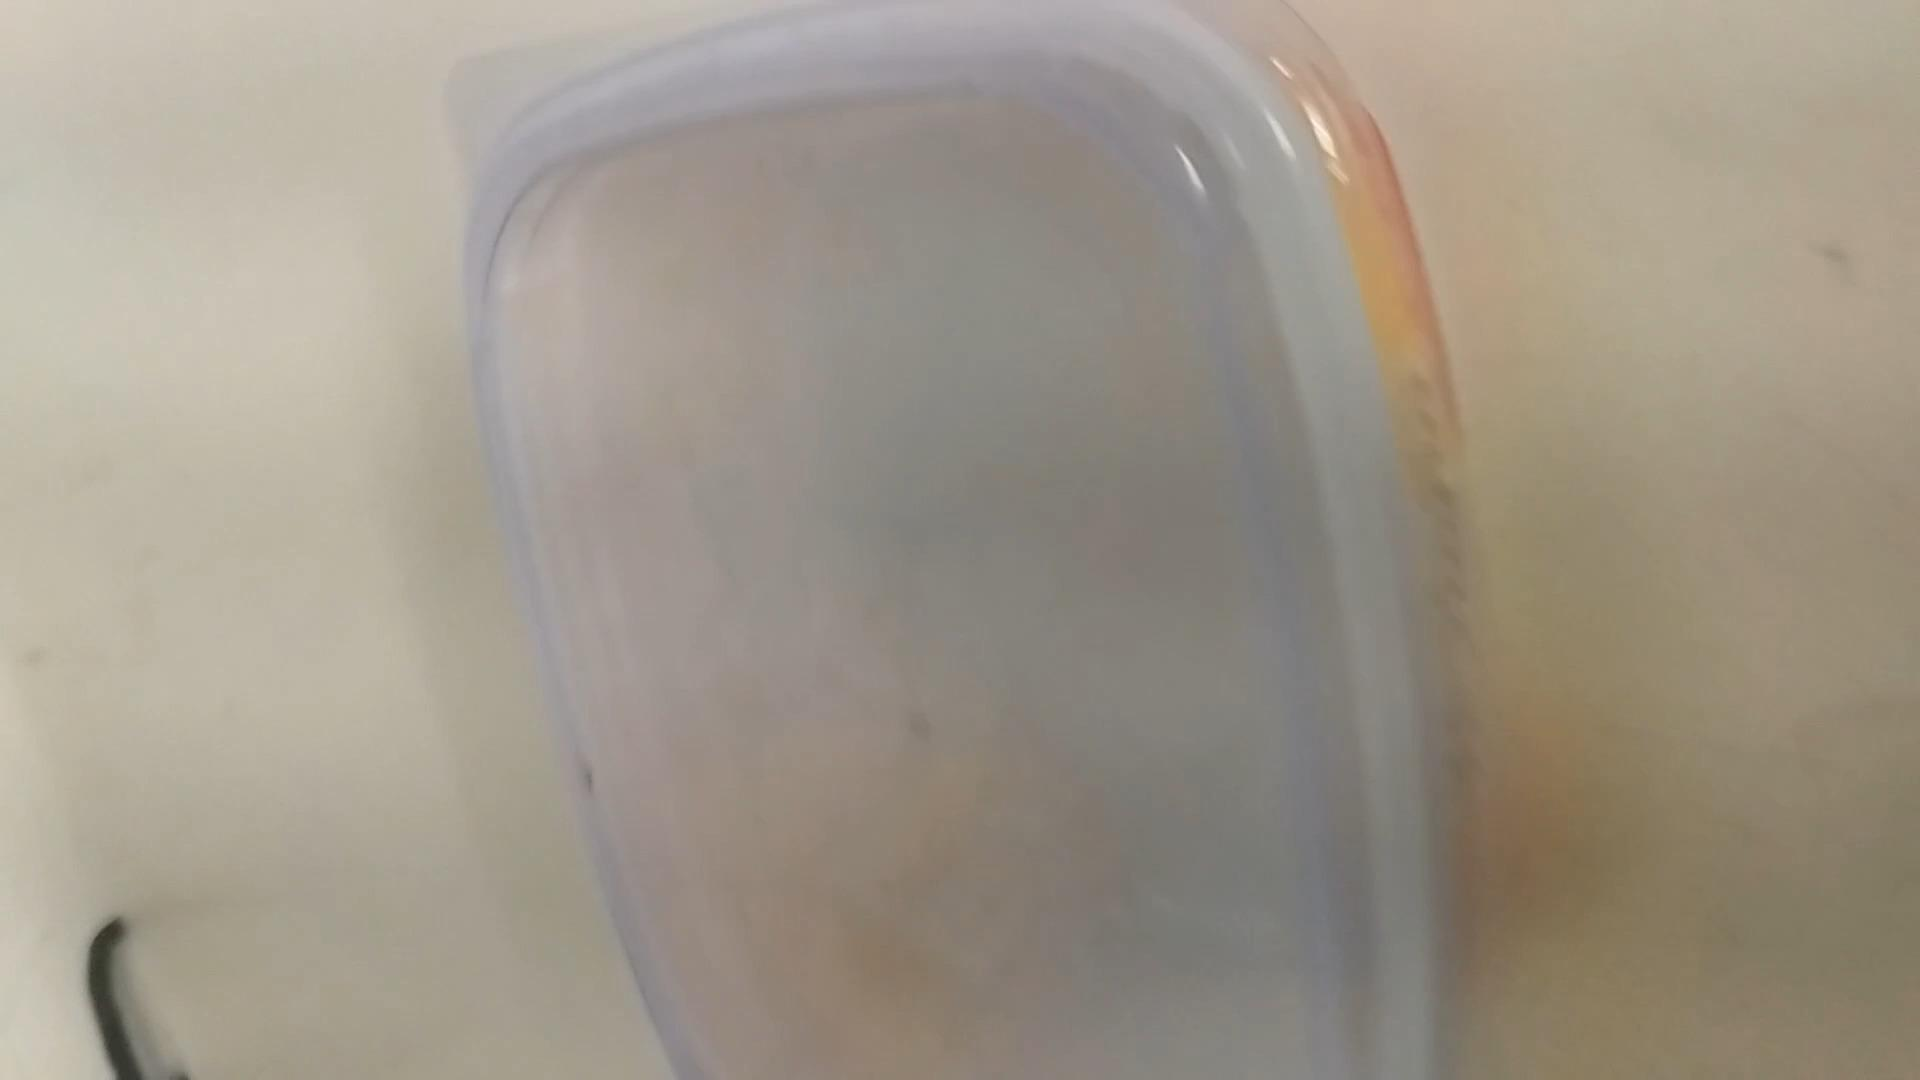butter: (447, 0, 1447, 1080)
